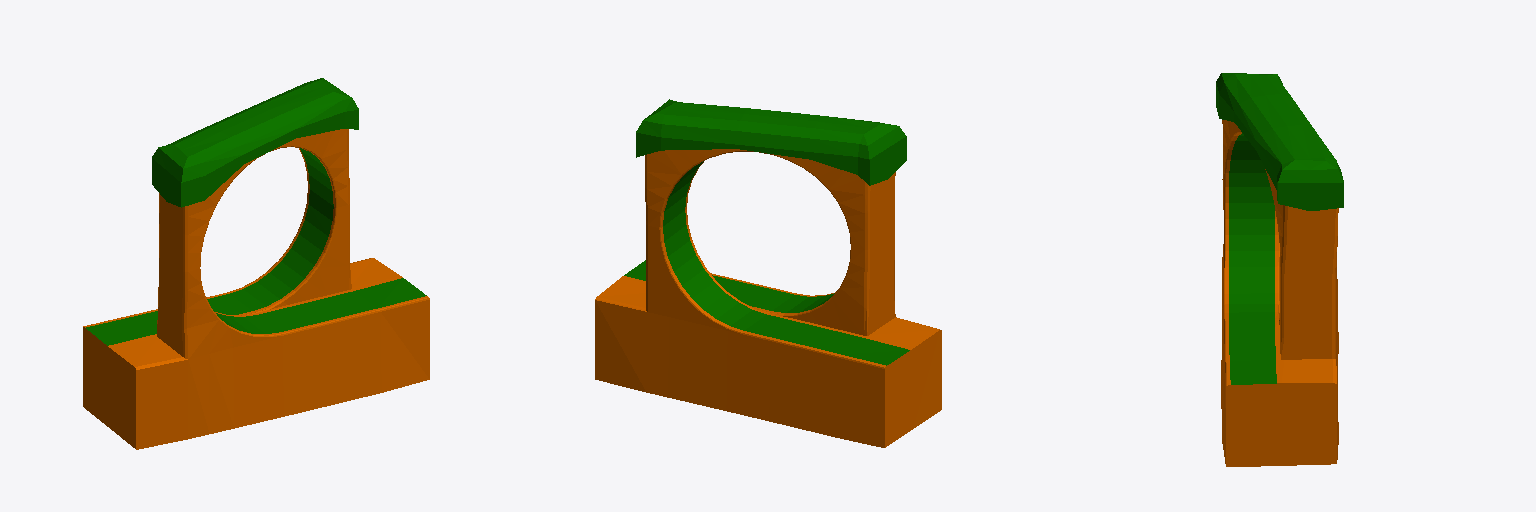
File: loop.obj
3 renders of one model, left to right at view 1: azimuth 30°, elevation 25°; view 2: azimuth 150°, elevation 25°; view 3: azimuth 270°, elevation 25°, orthographic.
Parts seen in each view (by area): view 1: Plane.001; view 2: Plane.001; view 3: Plane.001.
Part boxes in pixels (x1,y1,x2,y2): Plane.001: (83, 78, 429, 449); Plane.001: (595, 99, 941, 447); Plane.001: (1216, 73, 1343, 466).
Bounding box in the file's own units: 21.55 × 19.59 × 8.13.